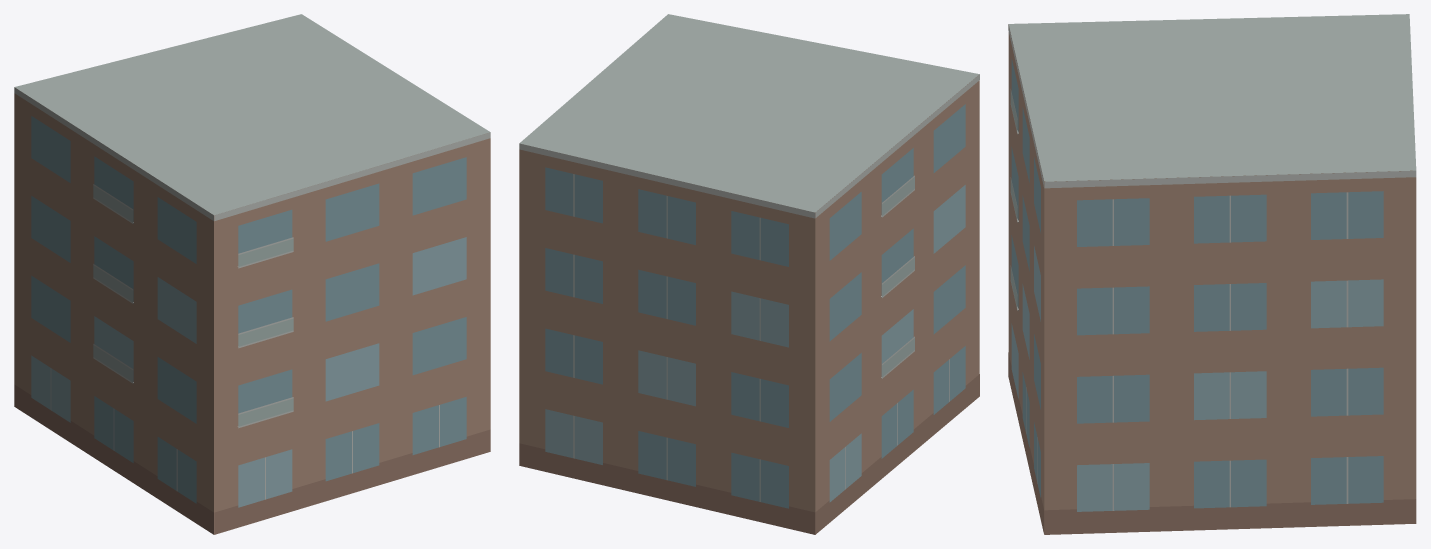
Rendered from survey-upis-32973981.glb.
The picture shows the model from 3 angles, left to right: view 1: azimuth 30°, elevation 25°; view 2: azimuth 150°, elevation 25°; view 3: azimuth 270°, elevation 25°; orthographic projection. The views are drawn at different scales.
Visible parts, largest first — view 1: survey-upis-32973981.tmp; view 2: survey-upis-32973981.tmp; view 3: survey-upis-32973981.tmp.
Part boxes in pixels (box(x1,y1,x2,y2)): survey-upis-32973981.tmp: box(14, 14, 490, 534); survey-upis-32973981.tmp: box(519, 14, 979, 534); survey-upis-32973981.tmp: box(1008, 14, 1416, 534).
Bounding box in the file's own units: 13.36 × 13.1 × 13.72.
